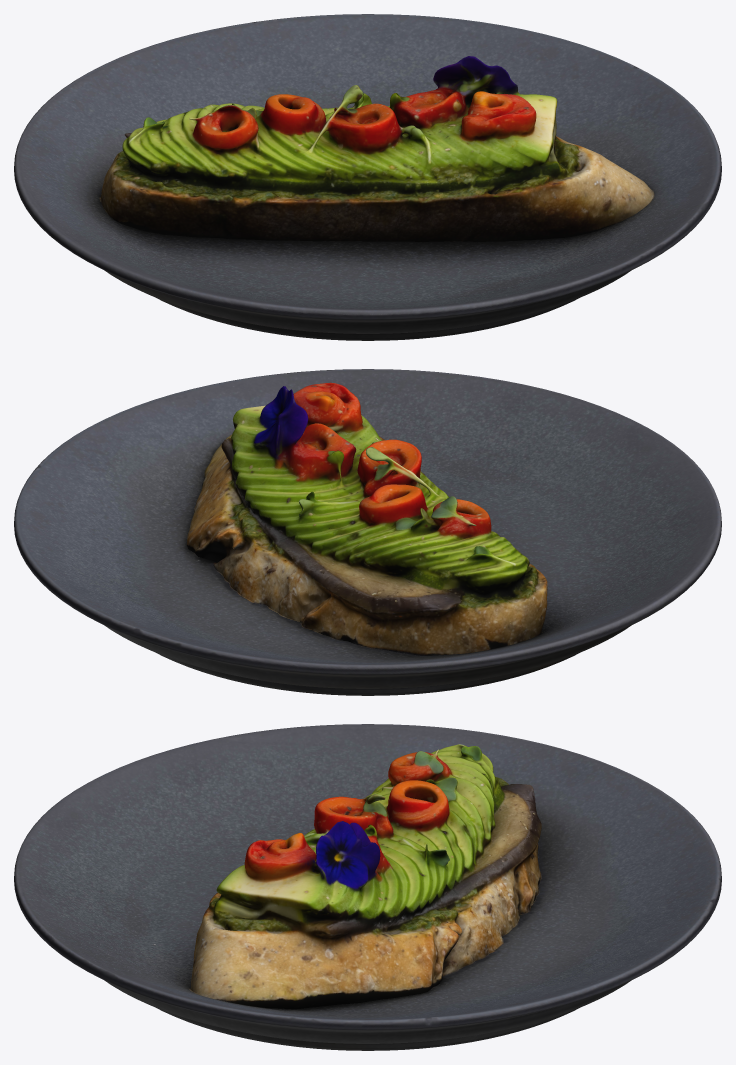
File: Vegan Roast.FBX
The picture shows the model from 3 angles, top to bottom: view 1: azimuth 30°, elevation 25°; view 2: azimuth 150°, elevation 25°; view 3: azimuth 270°, elevation 25°; orthographic projection.
Parts seen in each view (by area): view 1: Dish23_The Vegan Roast Toast; view 2: Dish23_The Vegan Roast Toast; view 3: Dish23_The Vegan Roast Toast.
Part boxes in pixels (box(x1,y1,x2,y2)): Dish23_The Vegan Roast Toast: box(14, 14, 721, 340); Dish23_The Vegan Roast Toast: box(14, 369, 721, 695); Dish23_The Vegan Roast Toast: box(14, 724, 721, 1050).
Size of the model in its own units: 25.59 by 6.33 by 25.59.
1 material, 1 textured.
